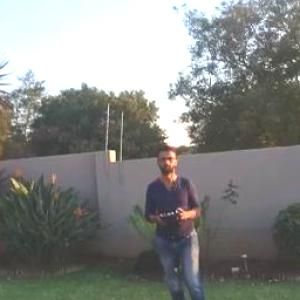follow: (139, 133, 211, 298)
